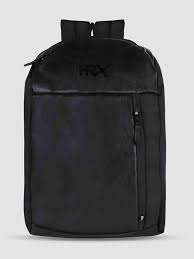backpack: (23, 18, 166, 238)
